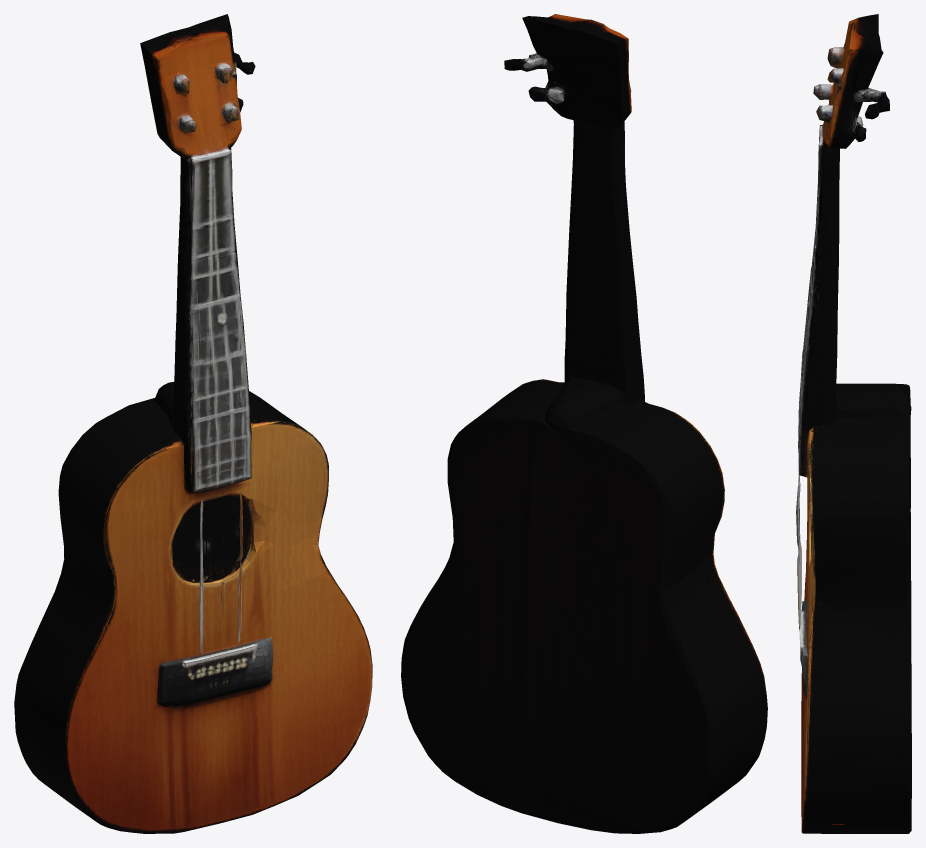
Rendered from wooden-ukulele-rustic.jpeg.glb.
The picture shows the model from 3 angles, left to right: view 1: azimuth 30°, elevation 25°; view 2: azimuth 150°, elevation 25°; view 3: azimuth 270°, elevation 25°; orthographic projection. The views are drawn at different scales.
Visible parts, largest first — view 1: world; view 2: world; view 3: world.
Boxes of the visible parts, x1,y1,x2,y2 form: world: (14,14,372,833); world: (401,14,767,833); world: (796,14,911,833).
Bounding box in the file's own units: 0.4186 × 1 × 0.1359.
Materials: 1 (1 with a texture image).
